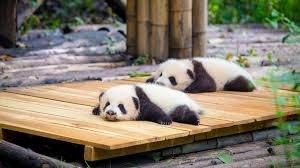bear: (93, 84, 206, 128), (147, 56, 257, 92)
